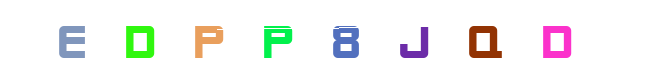8: (297, 0, 377, 80)
D: (99, 0, 179, 80), (516, 0, 596, 80)
E: (68, 0, 148, 80)
J: (334, 0, 414, 80)
P: (178, 0, 258, 80), (235, 0, 315, 80)
Q: (444, 0, 524, 80)
